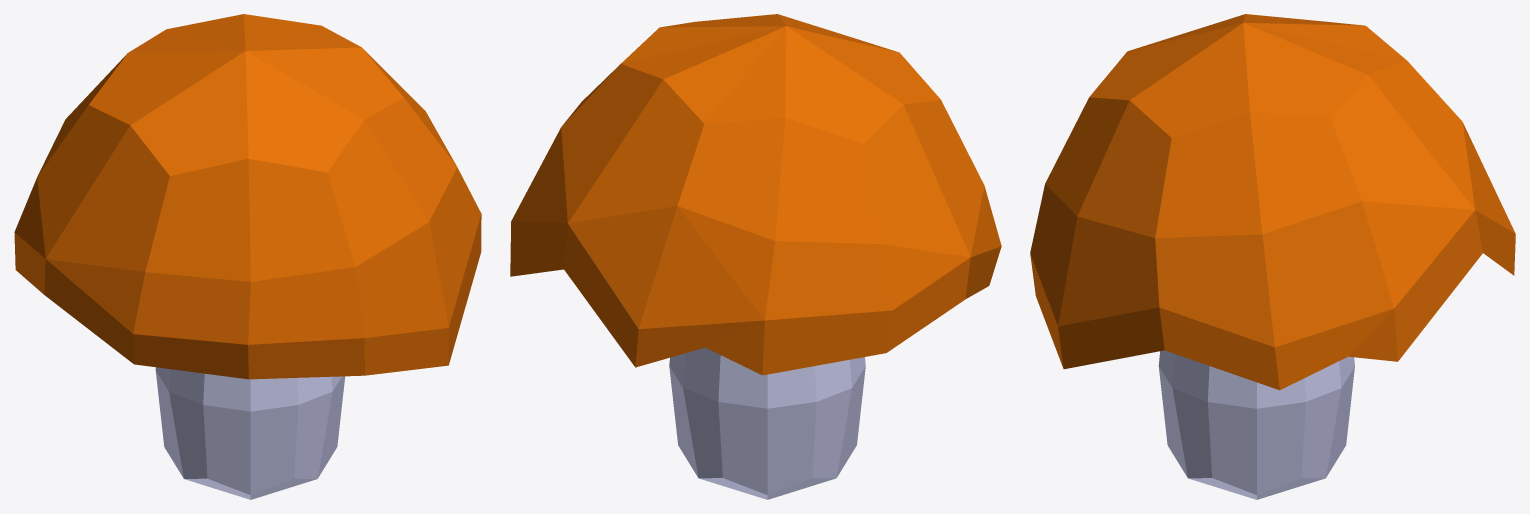
File: Grzyb3v2.fbx
3 views of the same model, side by side, from view 1: azimuth 30°, elevation 25°; view 2: azimuth 150°, elevation 25°; view 3: azimuth 270°, elevation 25° (orthographic). The views are drawn at different scales.
Parts seen in each view (by area): view 1: Walec.001, Walec; view 2: Walec.001, Walec; view 3: Walec.001, Walec.
Boxes of the visible parts, x1,y1,x2,y2 form: Walec.001: (14, 14, 481, 379); Walec: (155, 367, 345, 499); Walec.001: (510, 14, 1001, 375); Walec: (669, 347, 865, 499); Walec.001: (1030, 14, 1515, 390); Walec: (1158, 350, 1354, 499).
Bounding box in the file's own units: 205 × 216 × 202.
